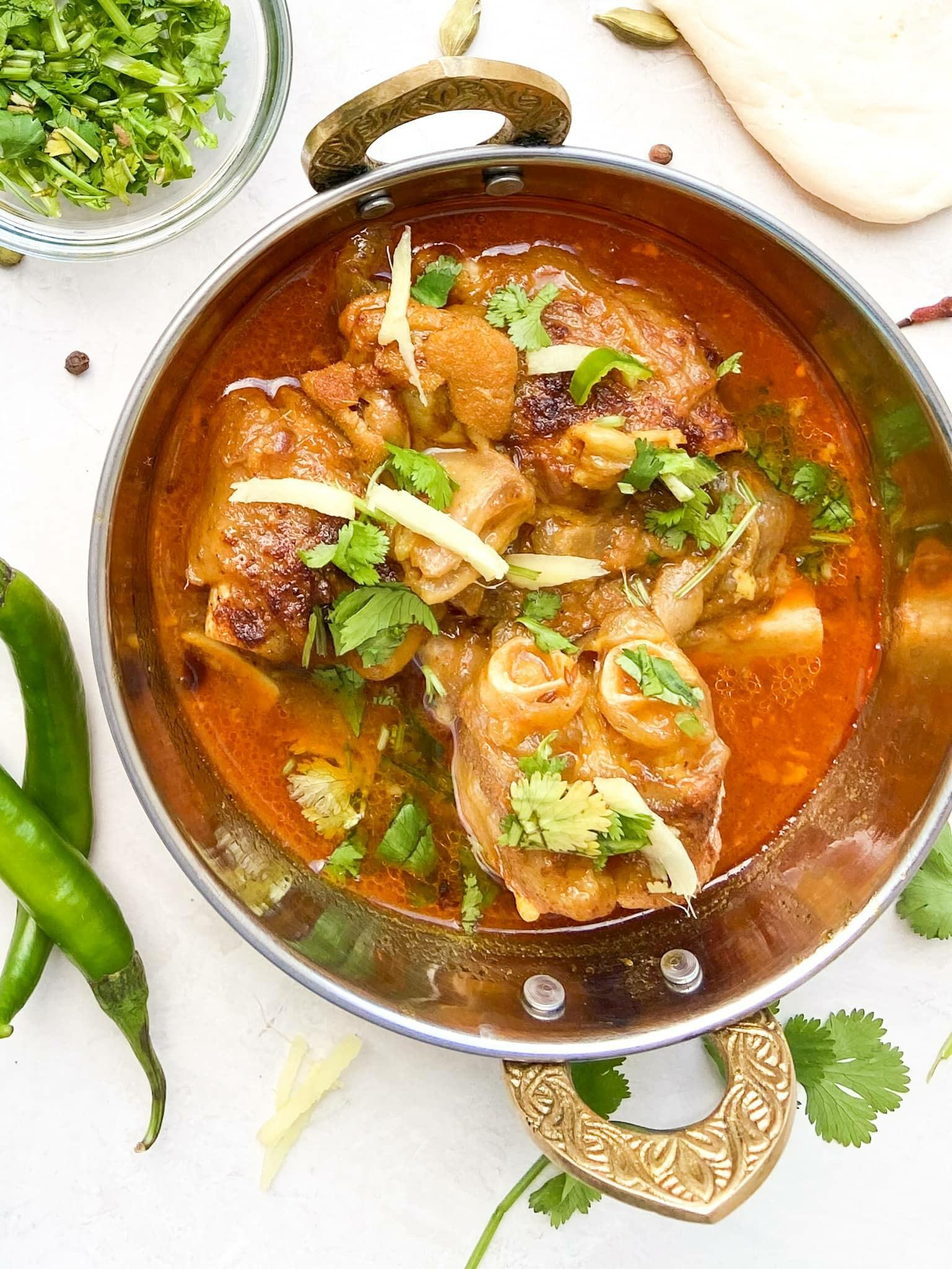MuttonCurry: (167, 201, 893, 936)
